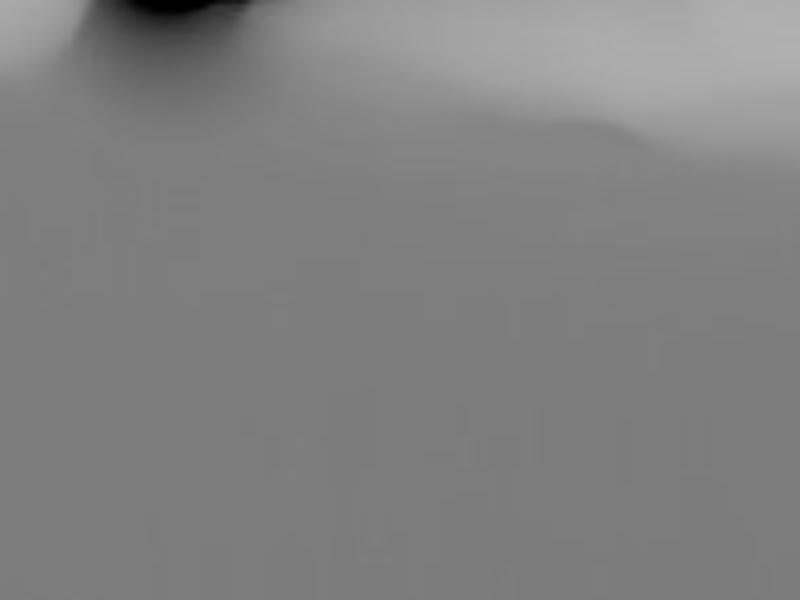defect: (108, 1, 253, 22)
